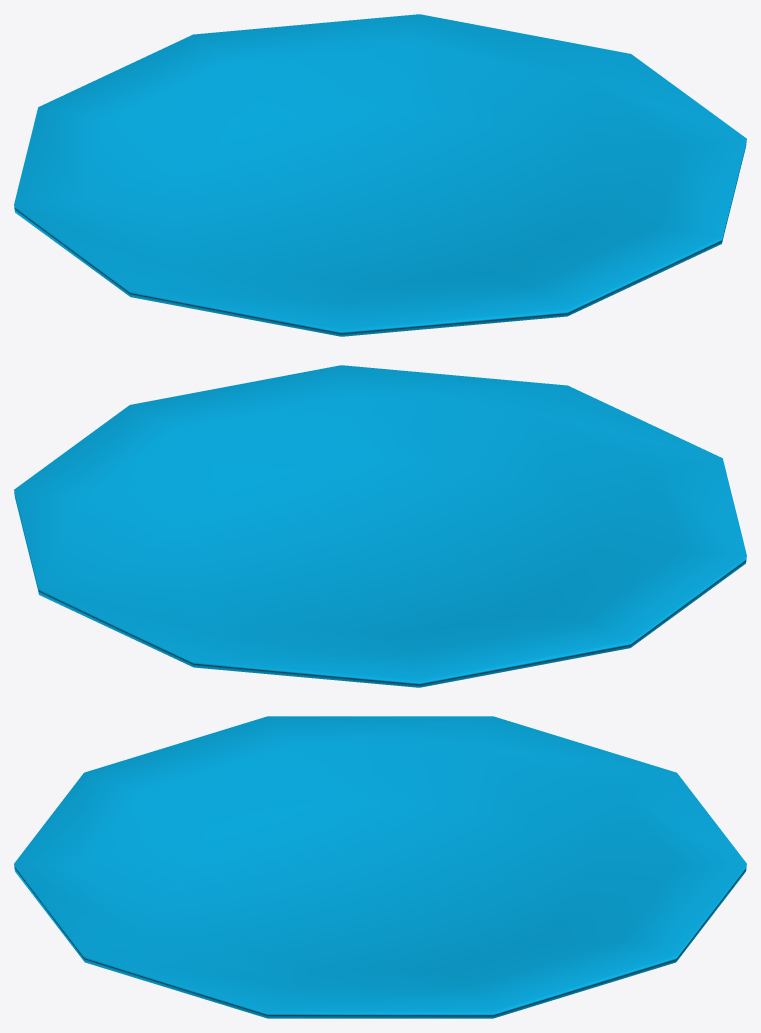
The model's file is Plate_01_Lod1.fbx.
3 views of the same model, one above another, from view 1: azimuth 30°, elevation 25°; view 2: azimuth 150°, elevation 25°; view 3: azimuth 270°, elevation 25° (orthographic). The views are drawn at different scales.
Visible parts, largest first — view 1: Plate_01_Lod1; view 2: Plate_01_Lod1; view 3: Plate_01_Lod1.
Boxes of the visible parts, left/top/right/bottom form: Plate_01_Lod1: left=14, top=14, right=746, bottom=336; Plate_01_Lod1: left=14, top=365, right=746, bottom=687; Plate_01_Lod1: left=14, top=716, right=746, bottom=1018.
Bounding box in the file's own units: 27.52 × 2.39 × 28.93.
